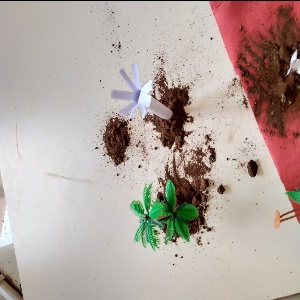plant: (126, 173, 200, 248)
weed: (108, 63, 178, 129)
